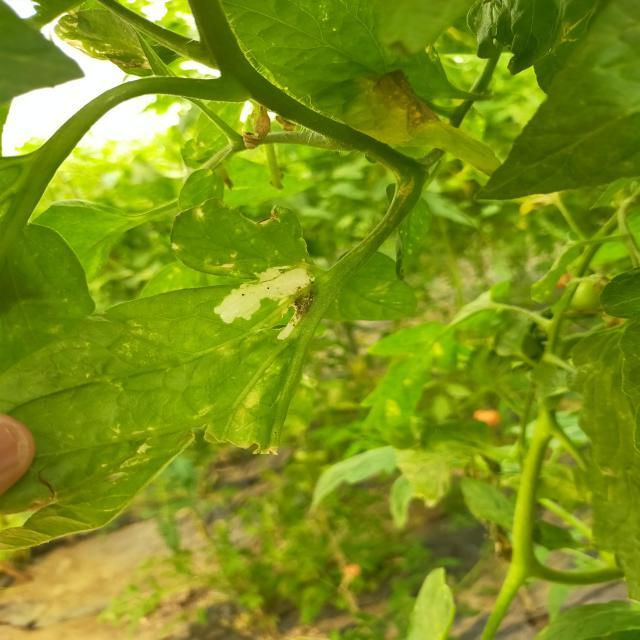Tuta absoluta: (212, 232, 338, 361)
